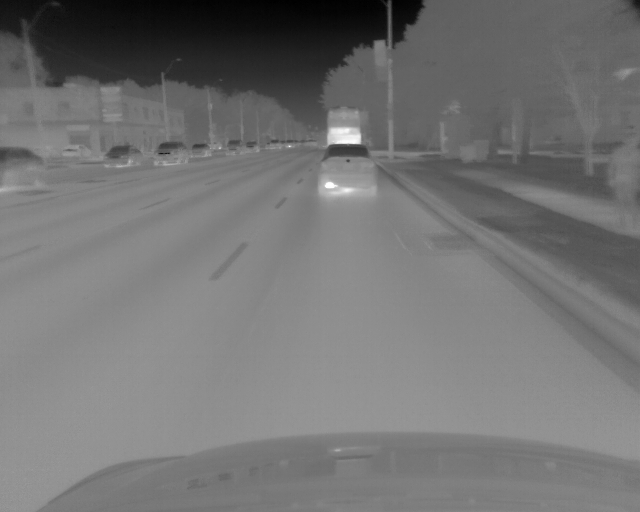car: (317, 143, 376, 196), (1, 147, 47, 191), (327, 106, 373, 147), (100, 146, 144, 169), (152, 142, 189, 168), (60, 144, 93, 161), (189, 143, 210, 160), (225, 139, 242, 155), (245, 141, 259, 153), (265, 140, 281, 150)
